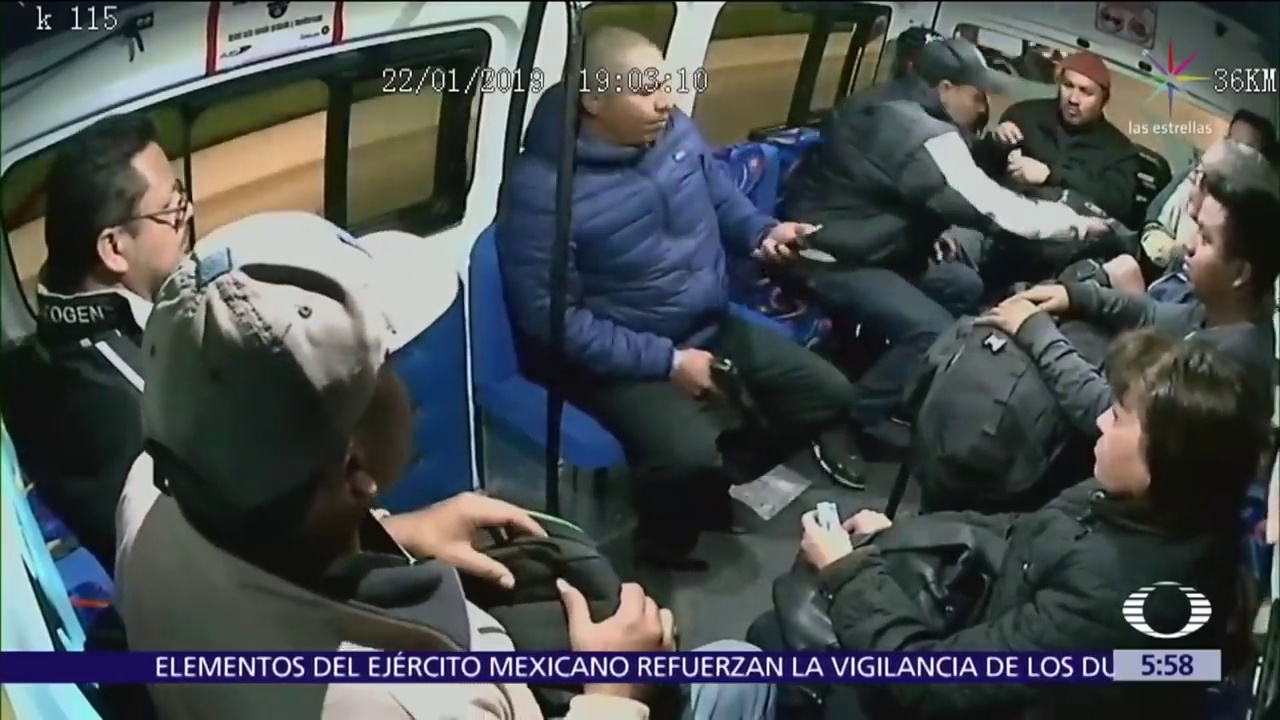pistol: (696, 356, 759, 413)
